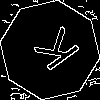K: (25, 25, 81, 79)
